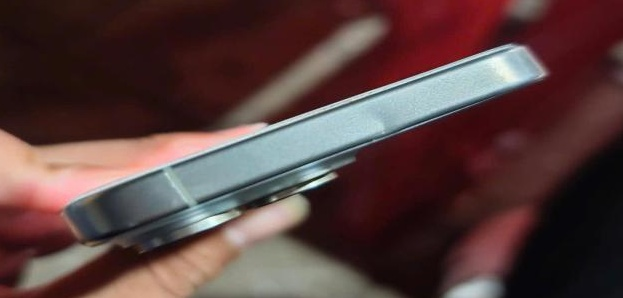physical_damage: (360, 97, 395, 137)
scratch: (173, 188, 188, 206), (161, 170, 176, 186), (127, 216, 141, 227)
